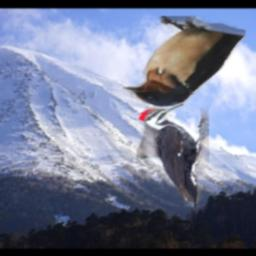Swallow: (124, 17, 247, 108)
Woodpecker: (138, 102, 210, 207)
